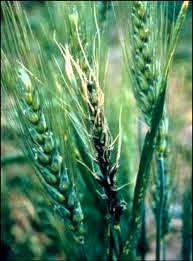Wheat Loose Smut: (81, 80, 125, 210)
